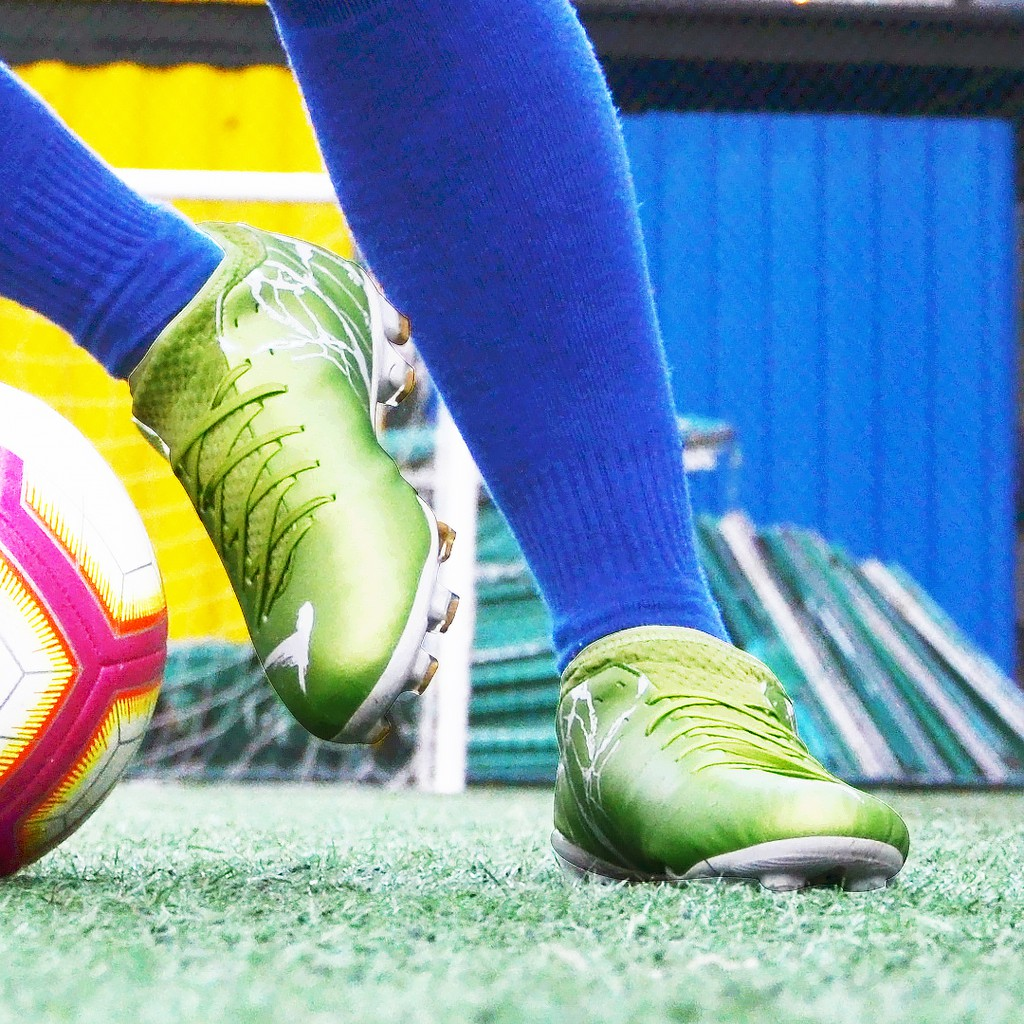soccer shoes: (119, 221, 463, 746), (548, 627, 911, 904)
